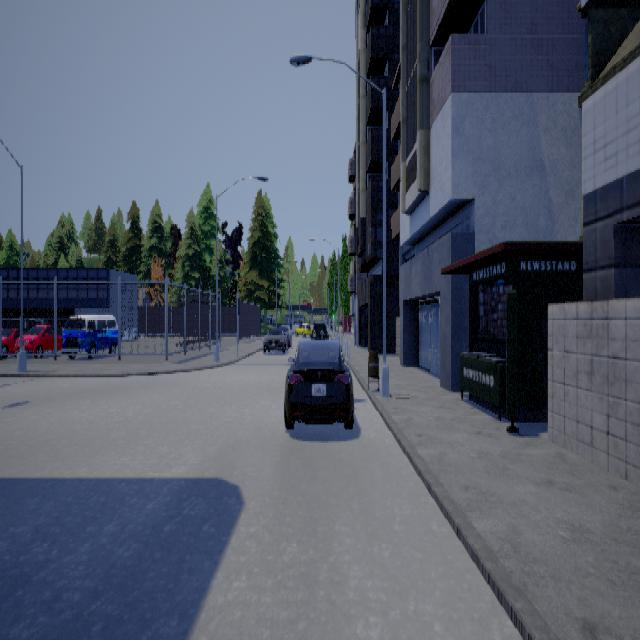vehicle: (283, 318, 353, 428), (56, 313, 117, 352), (22, 323, 53, 352), (262, 323, 291, 352)
